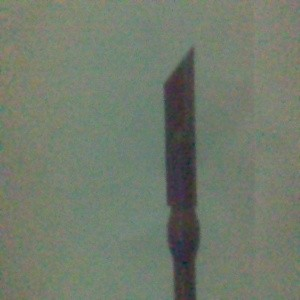cutter: (161, 45, 202, 300)
